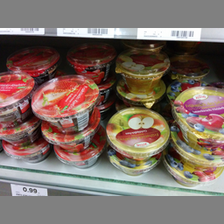jam: (31, 75, 100, 133), (106, 106, 171, 162), (172, 85, 224, 154), (117, 50, 170, 94), (1, 72, 34, 130)
